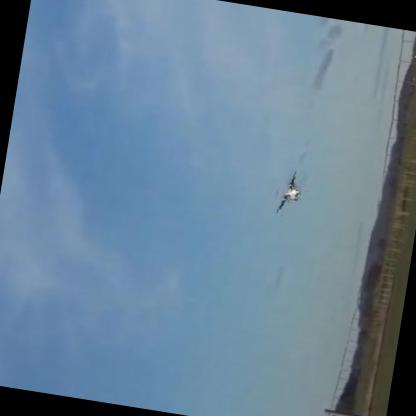plane: (272, 165, 307, 219)
